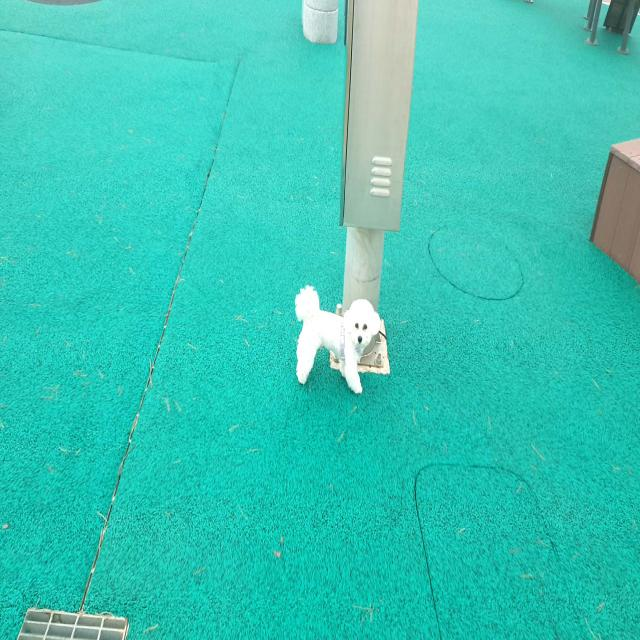Dog: (295, 283, 382, 394)
